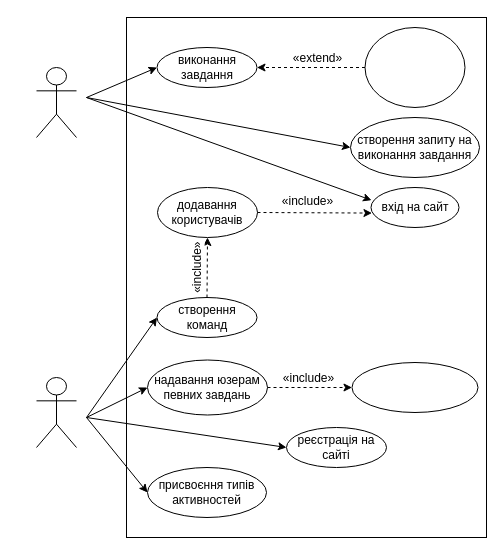
Image size: 504x555. Some labels were removed from this diagram. The box of each missing label's shape, as (x1, y1, x2, y2) in pixels:
Адміністратор: (36, 376, 76, 448)
керування часом виконання завдань: (351, 362, 478, 412)
Користувач: (36, 66, 76, 138)
редагування часу, що пішов на виконання завдання: (364, 26, 465, 108)
